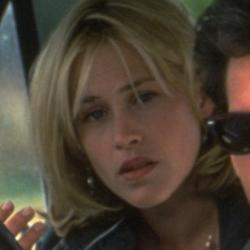face: (19, 3, 232, 217)
